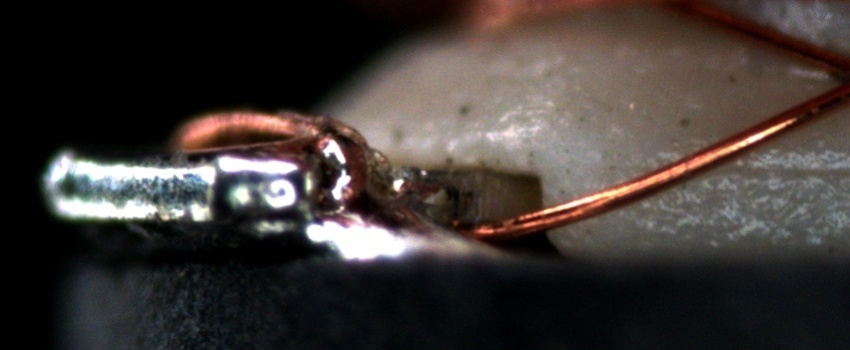CL: (807, 41, 850, 112)
DL: (686, 143, 849, 198)
TE: (168, 108, 382, 152)
